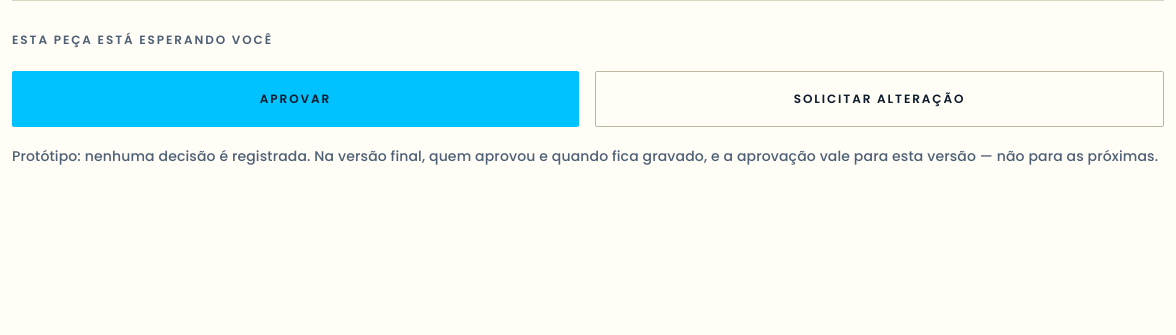
Test: ApprovalPanel › mostra o momento de marca ao aprovar, não um toast genérico
The width and height of the screenshot is (1176, 335).
Click the button "Aprovar" at coordinates (296, 99), box [12,71,579,127]
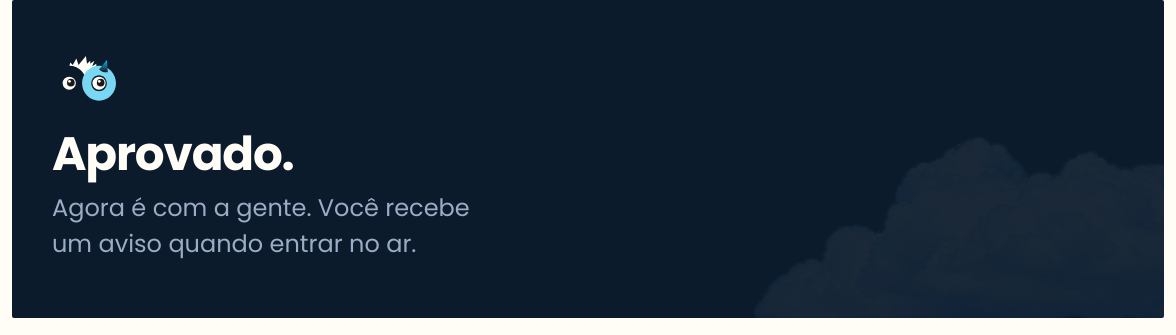
Expected: the text "Aprovado." is shown, [52,121,294,186]
Expected: the text "Agora é com a gente" is shown, [52,191,470,260]
Expected: the button "Aprovar" is gone
